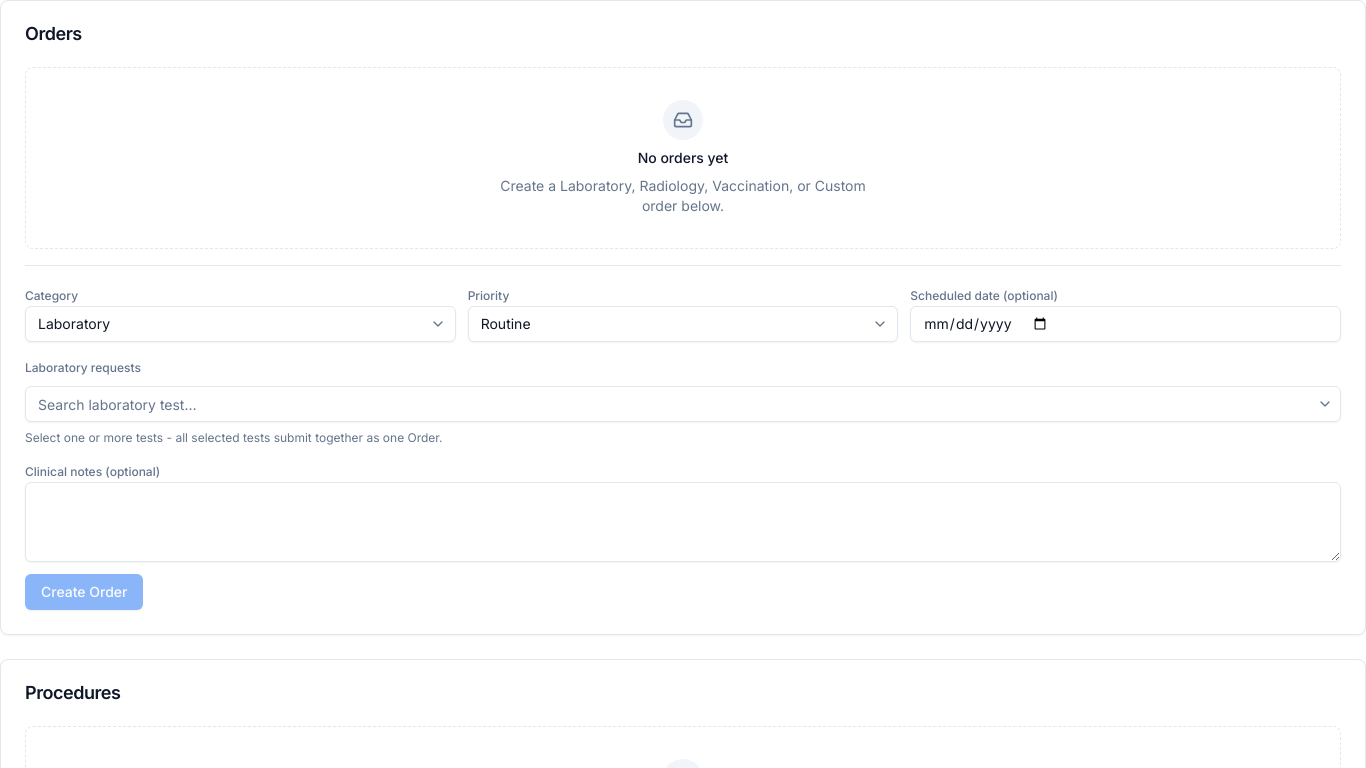
Scenario: ClinicalOrdersTab - Laboratory Requests searchable multi-select (Task #3) › 1: loads the laboratory catalog (from Laboratory Templates) for the Doctor role and shows it on search
The width and height of the screenshot is (1366, 768).
Click the field with placeholder "Search laboratory test…". click: click(683, 404)
box: x1=25 y1=386 x2=1341 y2=422
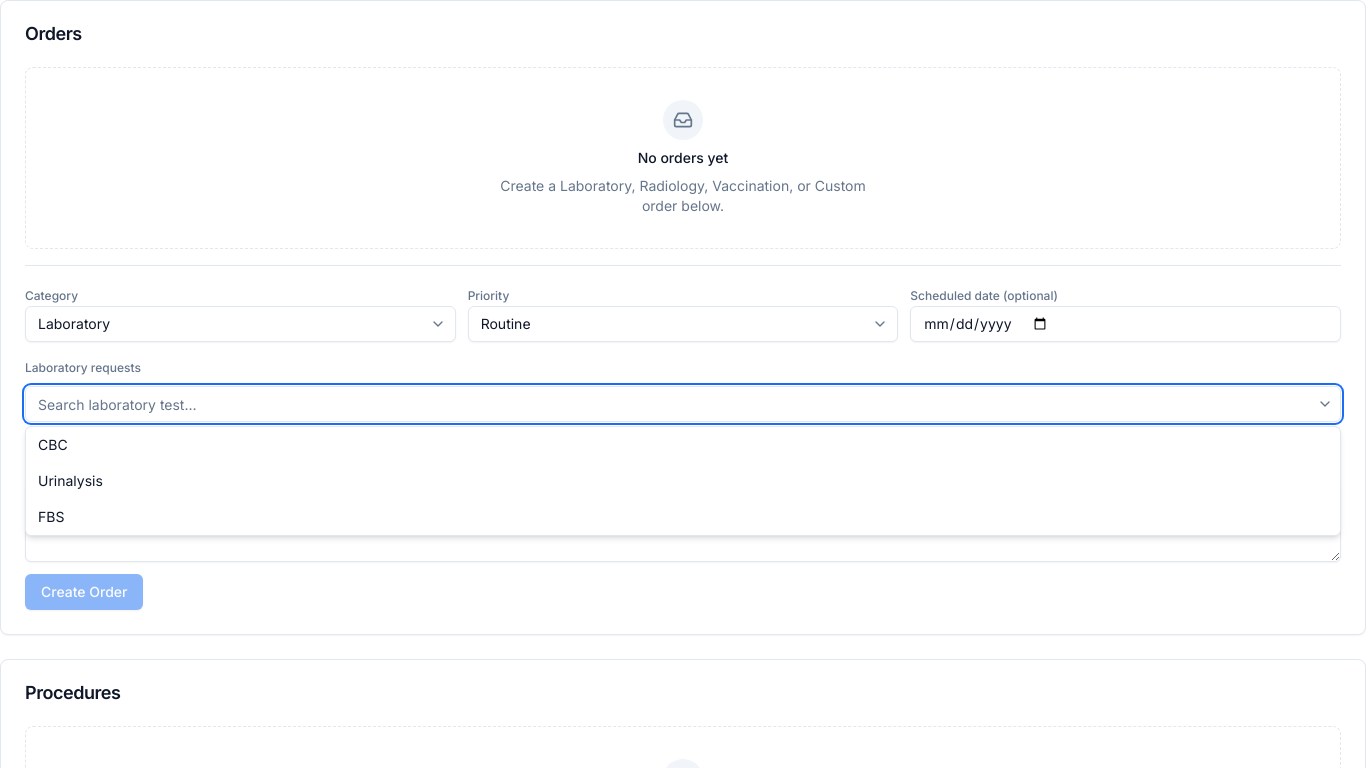
Now the button "CBC" is shown, box x1=26 y1=427 x2=1340 y2=463
Now the button "Urinalysis" is shown, box x1=26 y1=463 x2=1340 y2=499
Now the button "FBS" is shown, box x1=26 y1=499 x2=1340 y2=535
